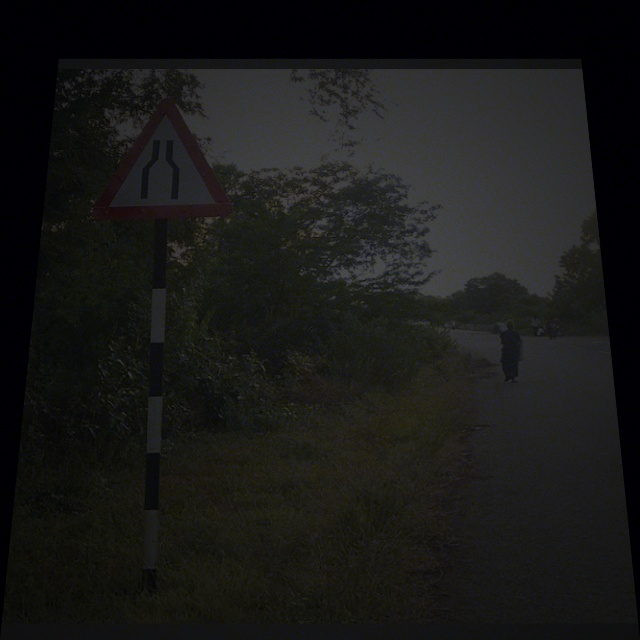Narrow_Road_Ahead: (91, 94, 240, 218)
